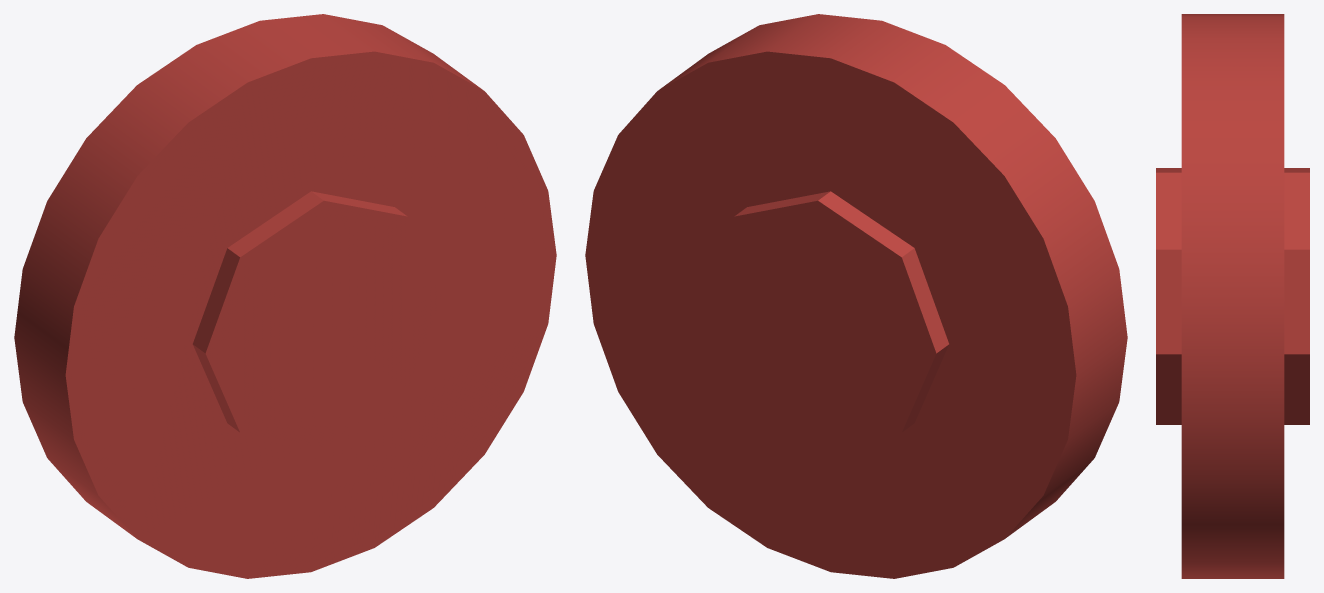
Rendered from front_13_lod1.glb.
3 views of the same model, side by side, from view 1: azimuth 30°, elevation 25°; view 2: azimuth 150°, elevation 25°; view 3: azimuth 270°, elevation 25° (orthographic).
Visible parts, largest first — view 1: front_13_lod1; view 2: front_13_lod1; view 3: front_13_lod1.
Boxes of the visible parts, left/top/right/bottom form: front_13_lod1: left=14, top=14, right=556, bottom=578; front_13_lod1: left=585, top=14, right=1127, bottom=578; front_13_lod1: left=1156, top=14, right=1309, bottom=578.
Bounding box in the file's own units: 0.0663 × 0.0663 × 0.018.
